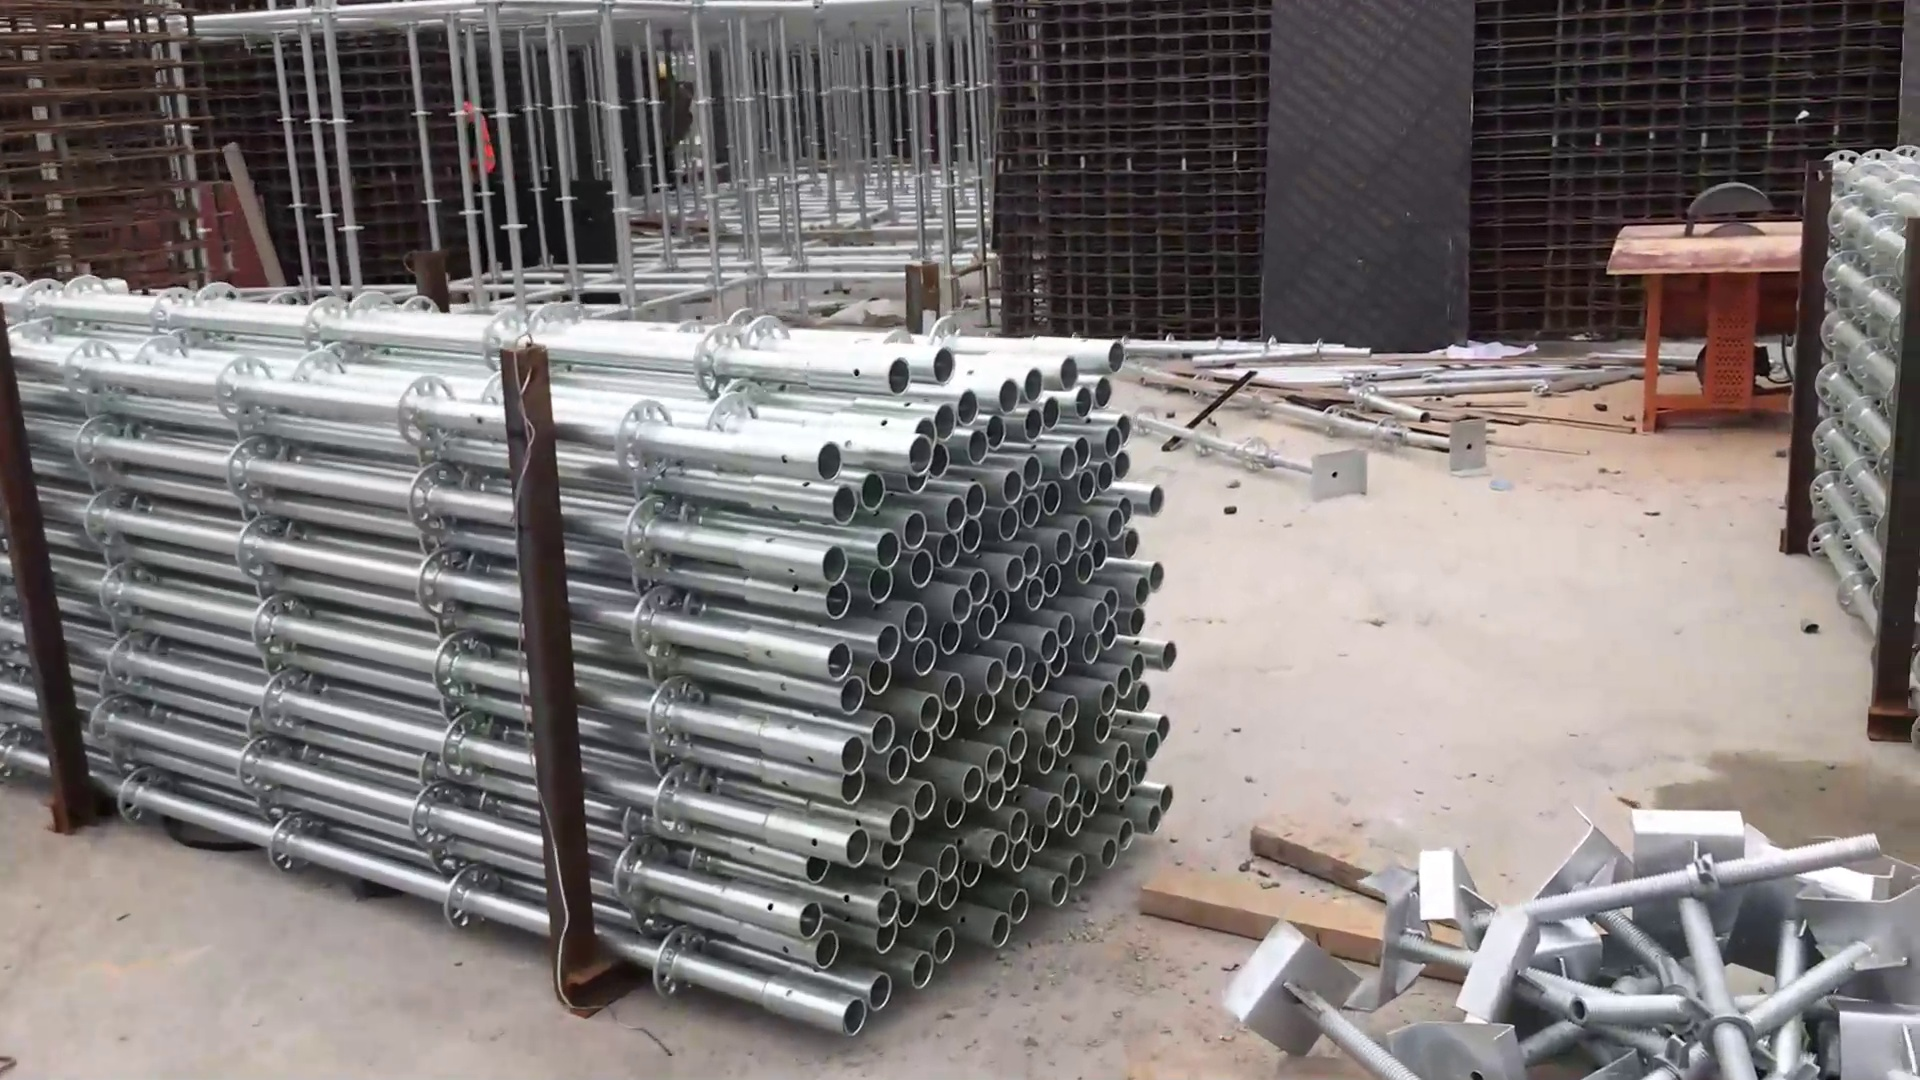cutter: (1610, 171, 1807, 444)
scaffold: (1, 272, 1195, 1031)
